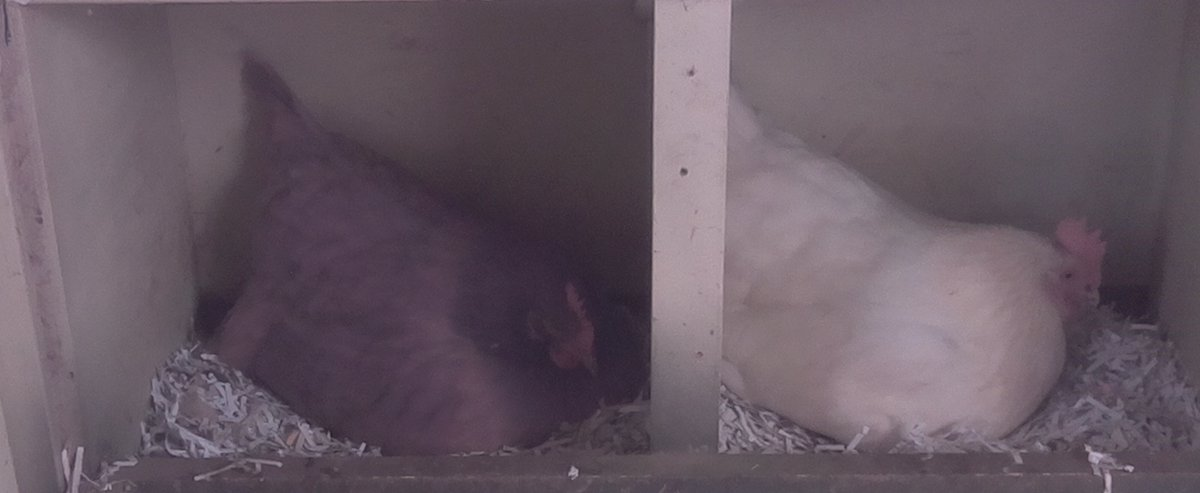hen: (210, 139, 648, 444), (730, 159, 1118, 450)
